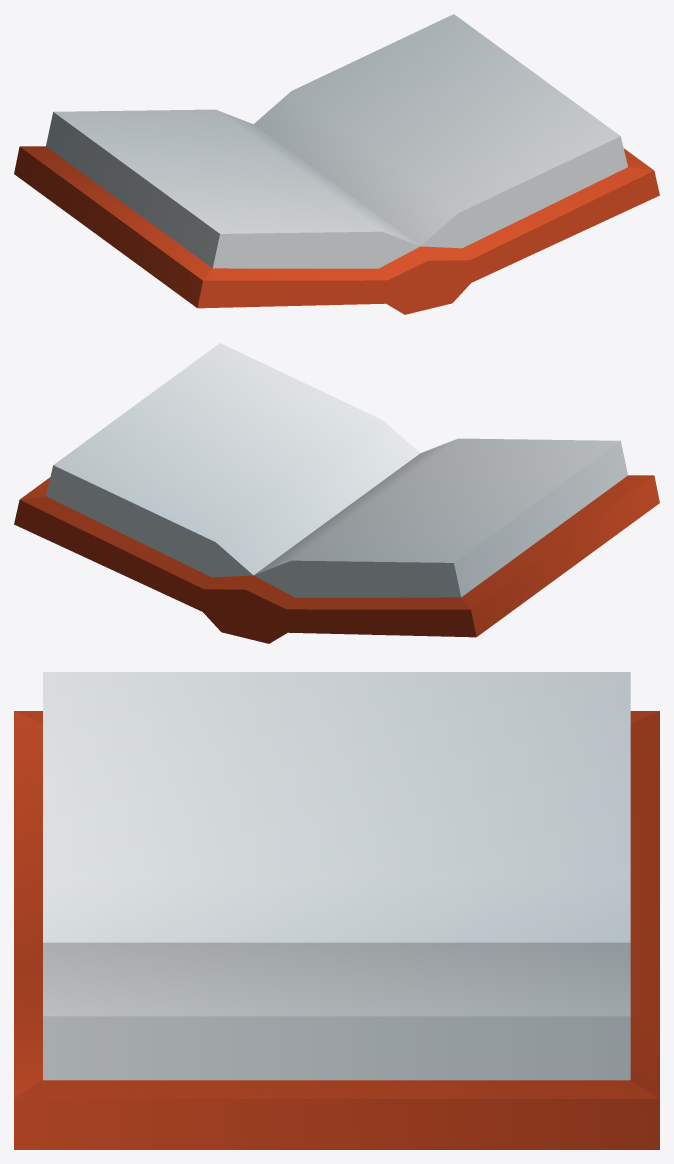
File: feuerbuch_offen.glb
3 renders of one model, top to bottom at view 1: azimuth 30°, elevation 25°; view 2: azimuth 150°, elevation 25°; view 3: azimuth 270°, elevation 25°, orthographic. The views are drawn at different scales.
Visible parts, largest first — view 1: Spellbook_open; view 2: Spellbook_open; view 3: Spellbook_open.
Part boxes in pixels (<box>): Spellbook_open: <box>14,14,659,314</box>; Spellbook_open: <box>14,343,659,643</box>; Spellbook_open: <box>14,672,659,1149</box>.
Size of the model in its own units: 0.8282 by 0.2219 by 0.5688.
Materials: 1 (1 with a texture image).
